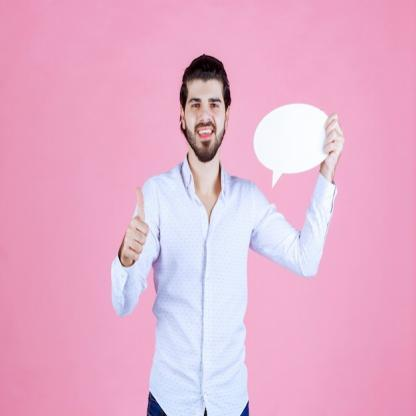thumb_up: (120, 180, 151, 260)
